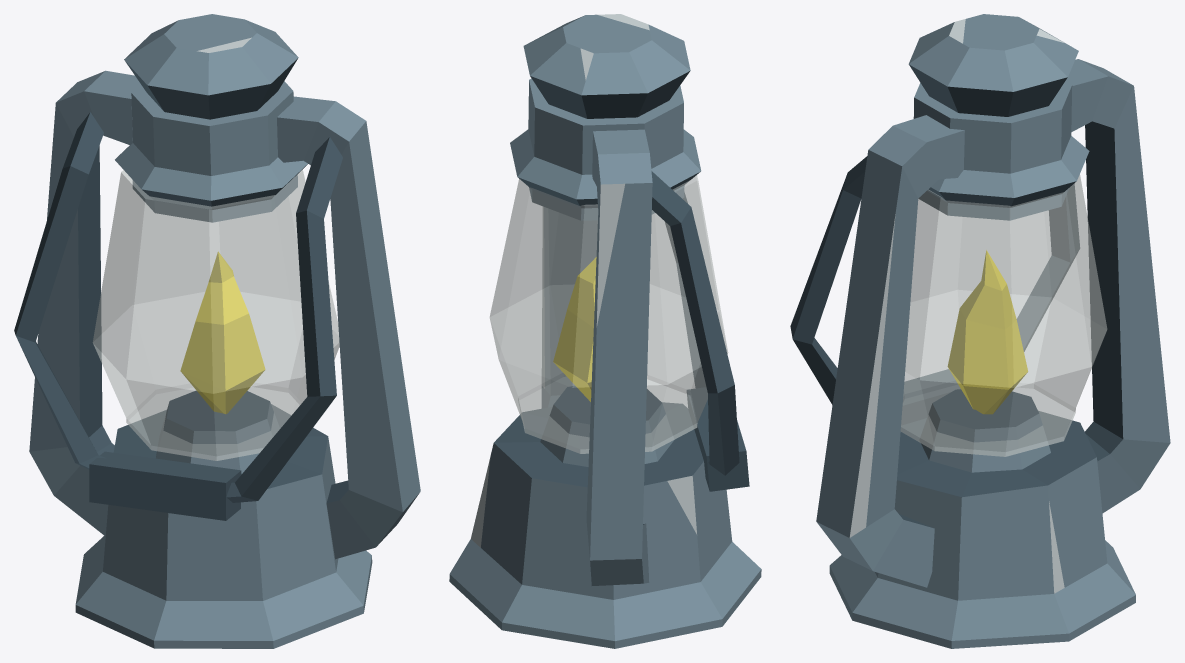
3 renders of one model, left to right at view 1: azimuth 30°, elevation 25°; view 2: azimuth 150°, elevation 25°; view 3: azimuth 270°, elevation 25°, orthographic.
Parts seen in each view (by area): view 1: Lantern, Lantern.001; view 2: Lantern, Lantern.001; view 3: Lantern, Lantern.001.
Part boxes in pixels (x1,y1,x2,y2): Lantern: (14, 14, 420, 648); Lantern.001: (92, 170, 339, 455); Lantern: (449, 14, 761, 648); Lantern.001: (489, 175, 728, 448); Lantern: (790, 14, 1170, 648); Lantern.001: (901, 175, 1107, 451).
Size of the model in its own units: 27.24 by 48.09 by 29.74.
